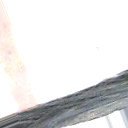crackTip: (1, 69, 128, 126)
